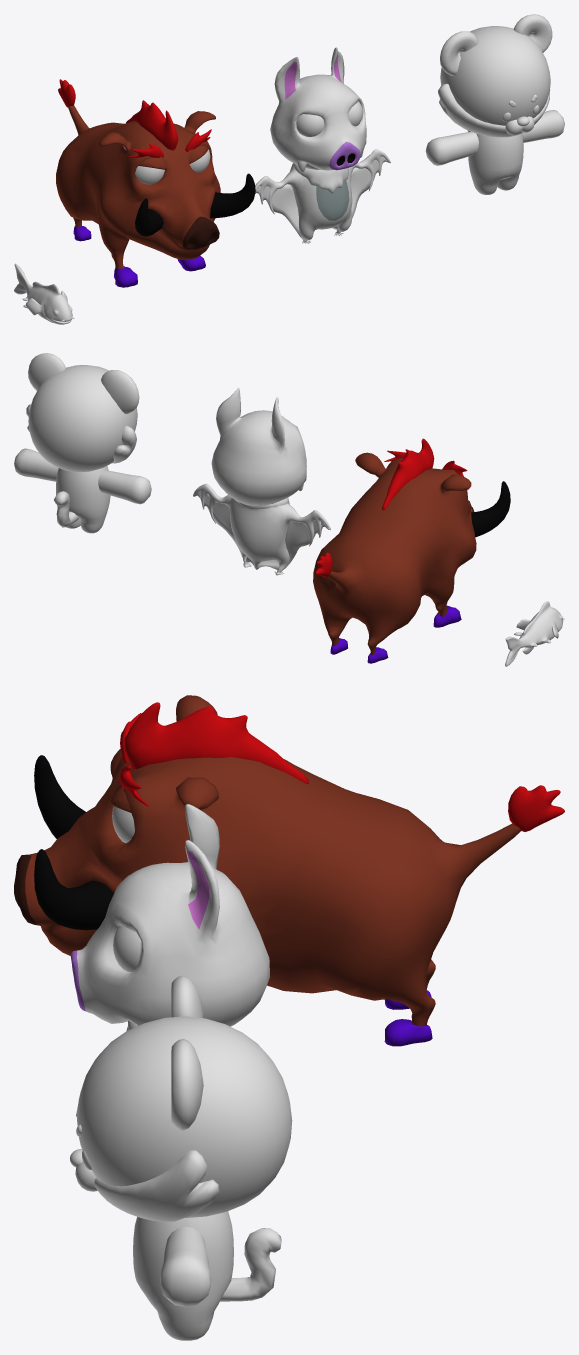
Rendered from Creature.fbx.
3 views of the same model, one above another, from view 1: azimuth 30°, elevation 25°; view 2: azimuth 150°, elevation 25°; view 3: azimuth 270°, elevation 25° (orthographic). The views are drawn at different scales.
Visible parts, largest first — view 1: WildBoar Creature, Hojong NPC, Bat Creature, Carp Creature; view 2: WildBoar Creature, Hojong NPC, Bat Creature, Carp Creature; view 3: WildBoar Creature, Hojong NPC, Bat Creature.
Boxes of the visible parts, bbox=[...] form: WildBoar Creature: bbox=[56, 79, 255, 287]; Hojong NPC: bbox=[425, 14, 564, 194]; Bat Creature: bbox=[255, 47, 390, 243]; Carp Creature: bbox=[14, 263, 74, 324]; WildBoar Creature: bbox=[313, 438, 510, 663]; Hojong NPC: bbox=[14, 353, 151, 533]; Bat Creature: bbox=[193, 388, 330, 575]; Carp Creature: bbox=[505, 601, 564, 666]; WildBoar Creature: bbox=[14, 695, 564, 1046]; Hojong NPC: bbox=[70, 975, 292, 1340]; Bat Creature: bbox=[70, 804, 269, 1030].
Bounding box in the file's own units: 10 × 3.44 × 4.68.
